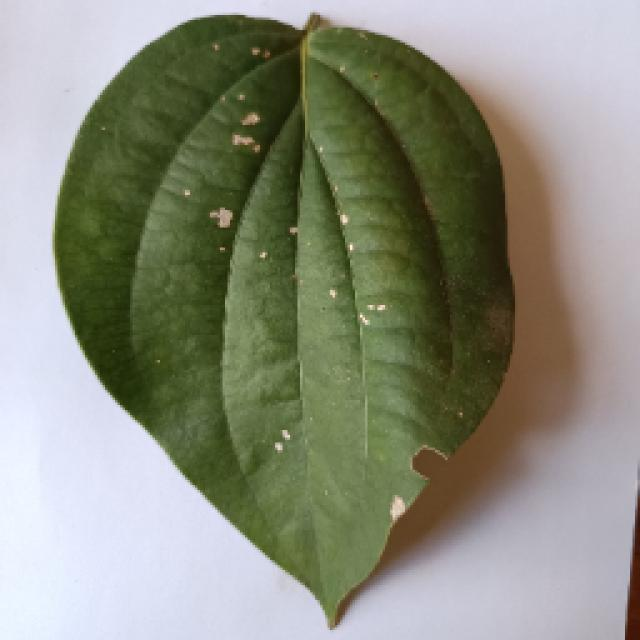pollu-disease: (50, 13, 508, 625)
